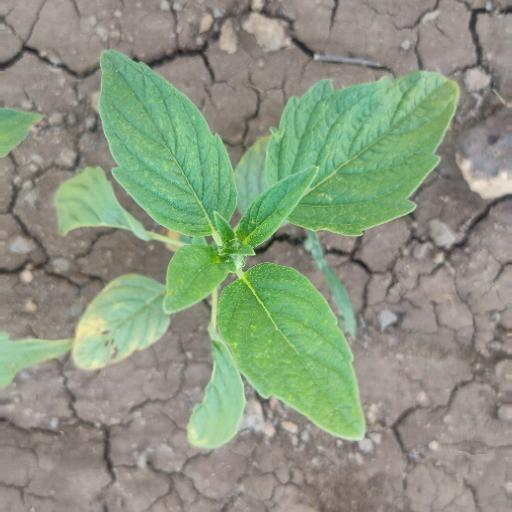crop: (55, 34, 465, 451)
